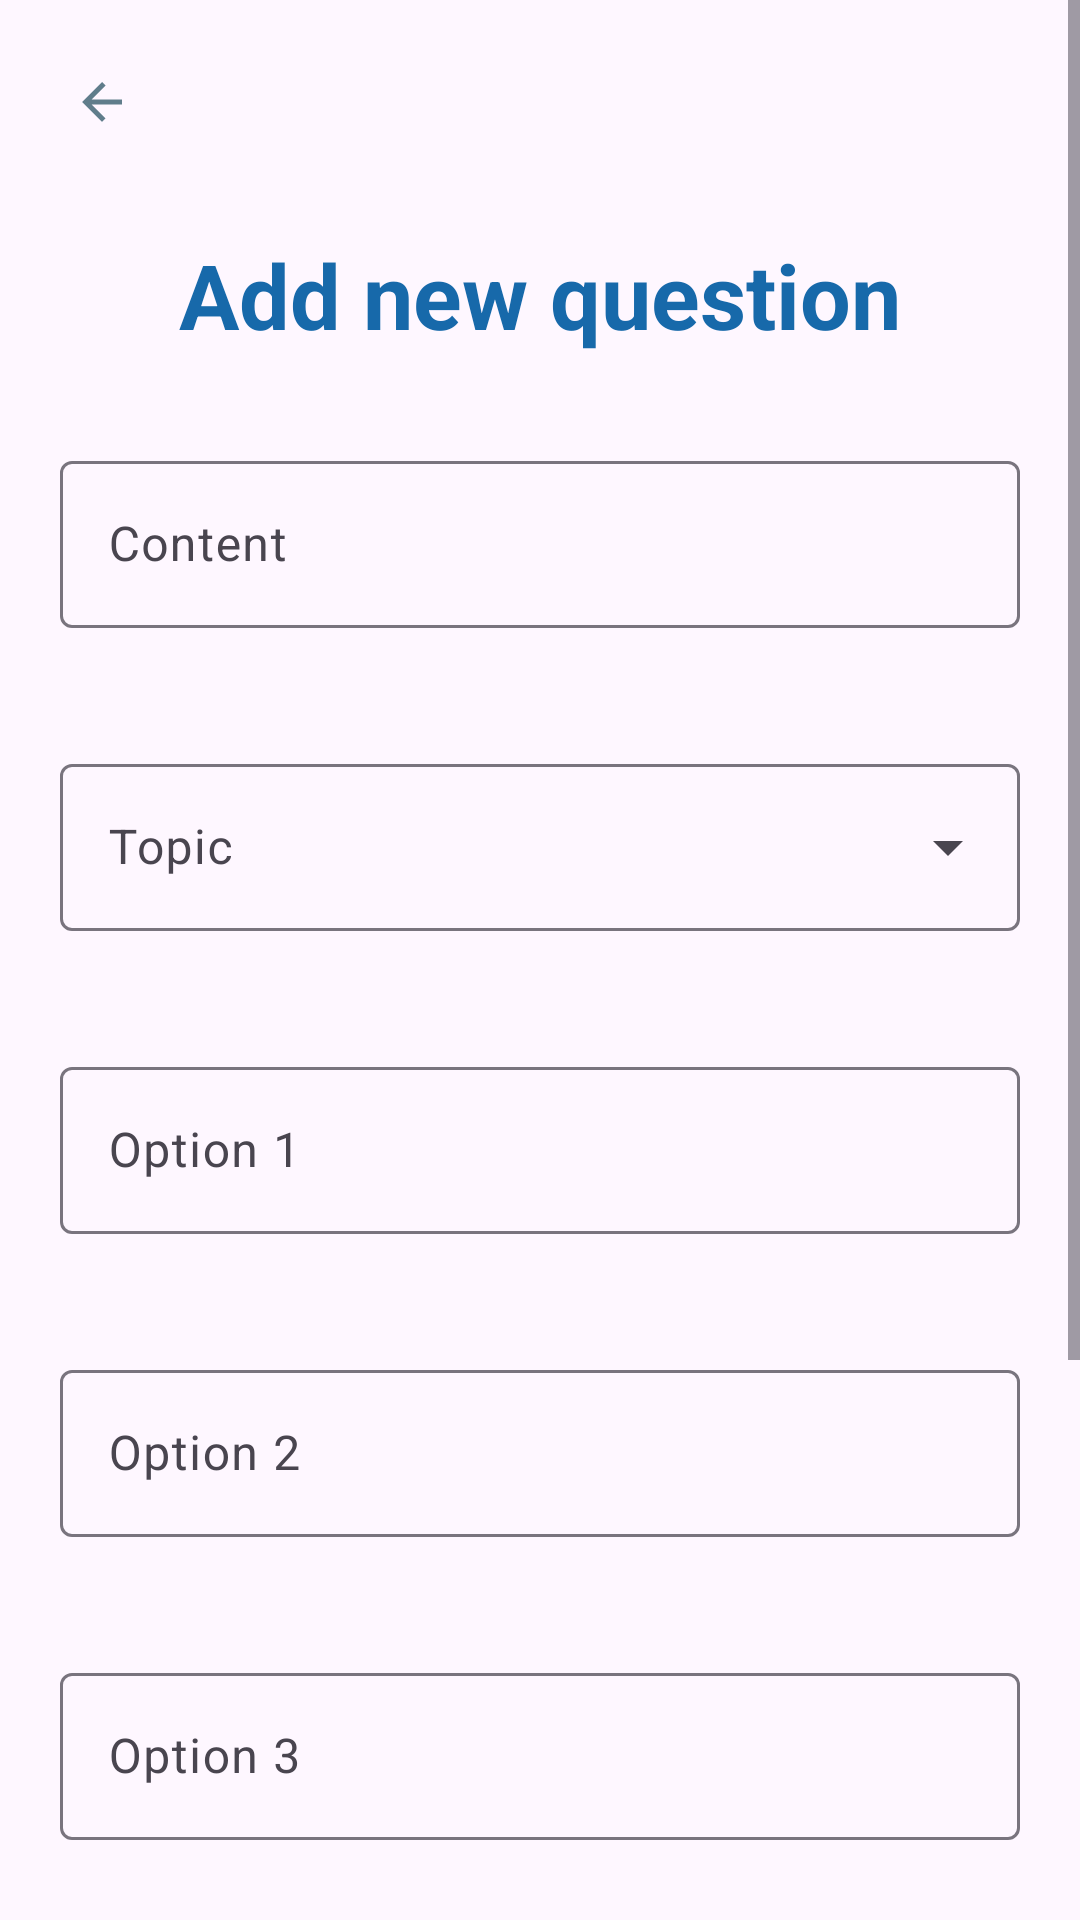

Icon bounding boxes for this 1080*1920 phone screenshot, format BBox(x1, y1, x2, y2):
arrow back: BBox(82, 82, 122, 122)
